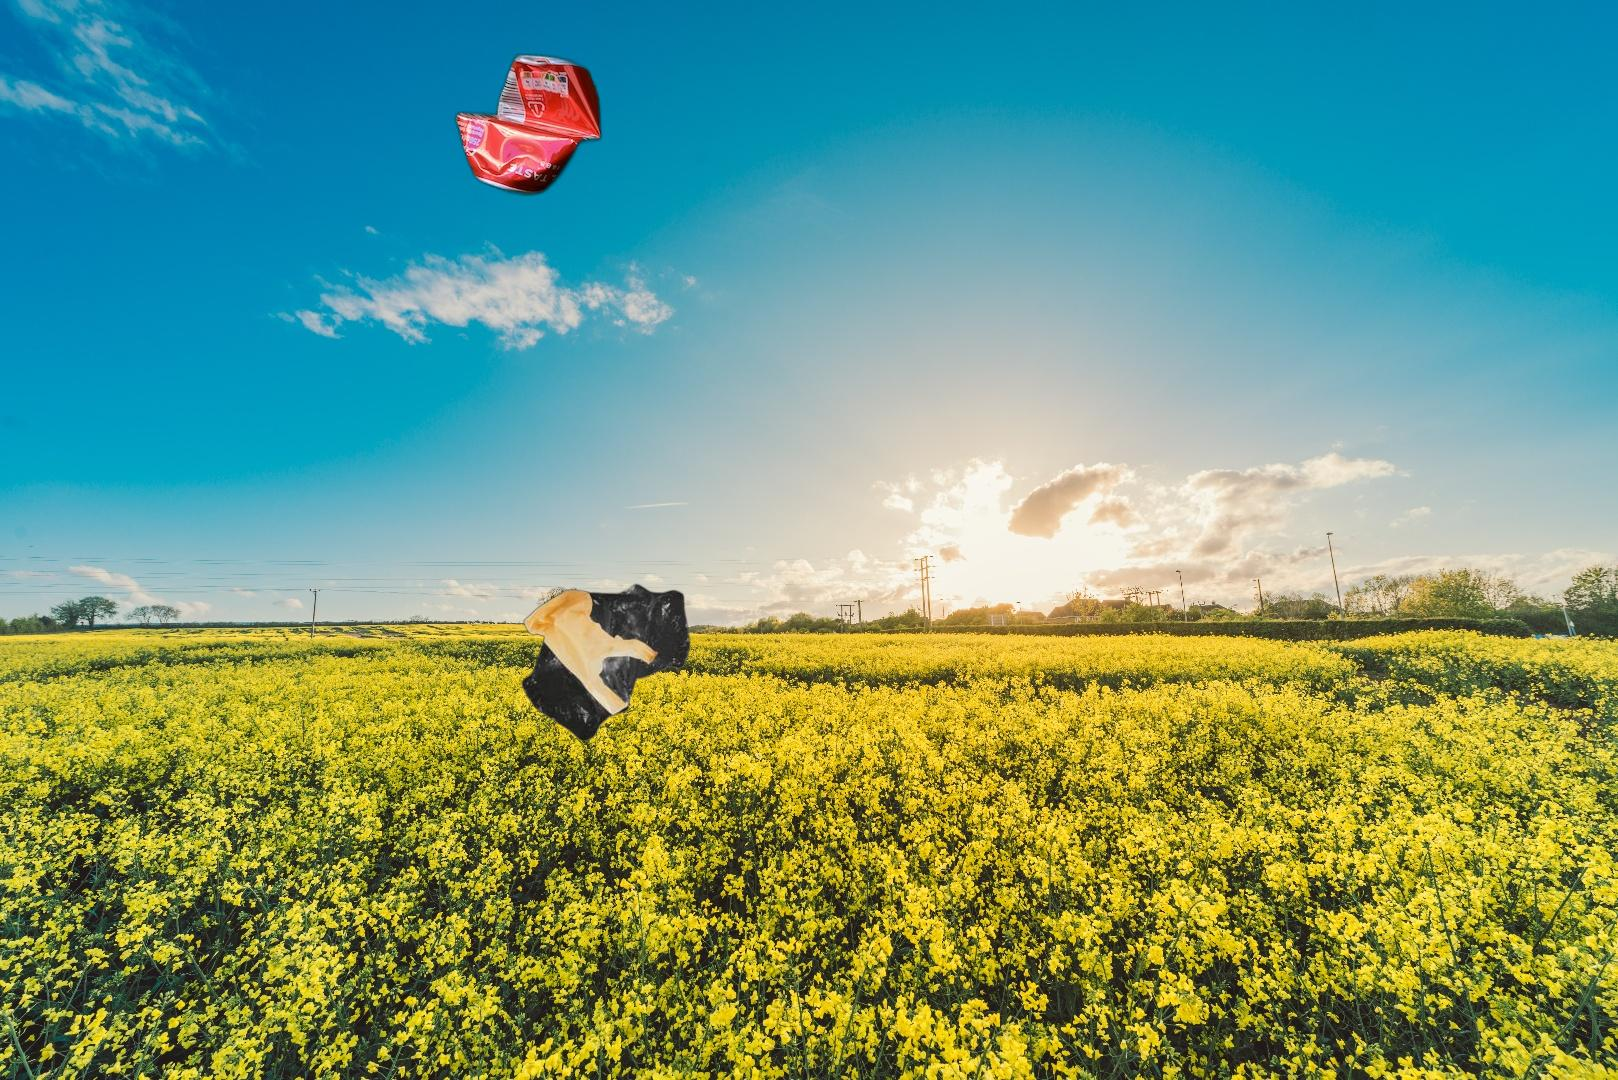metal-cans: (451, 48, 606, 200)
plastic-bag: (519, 581, 693, 742)
